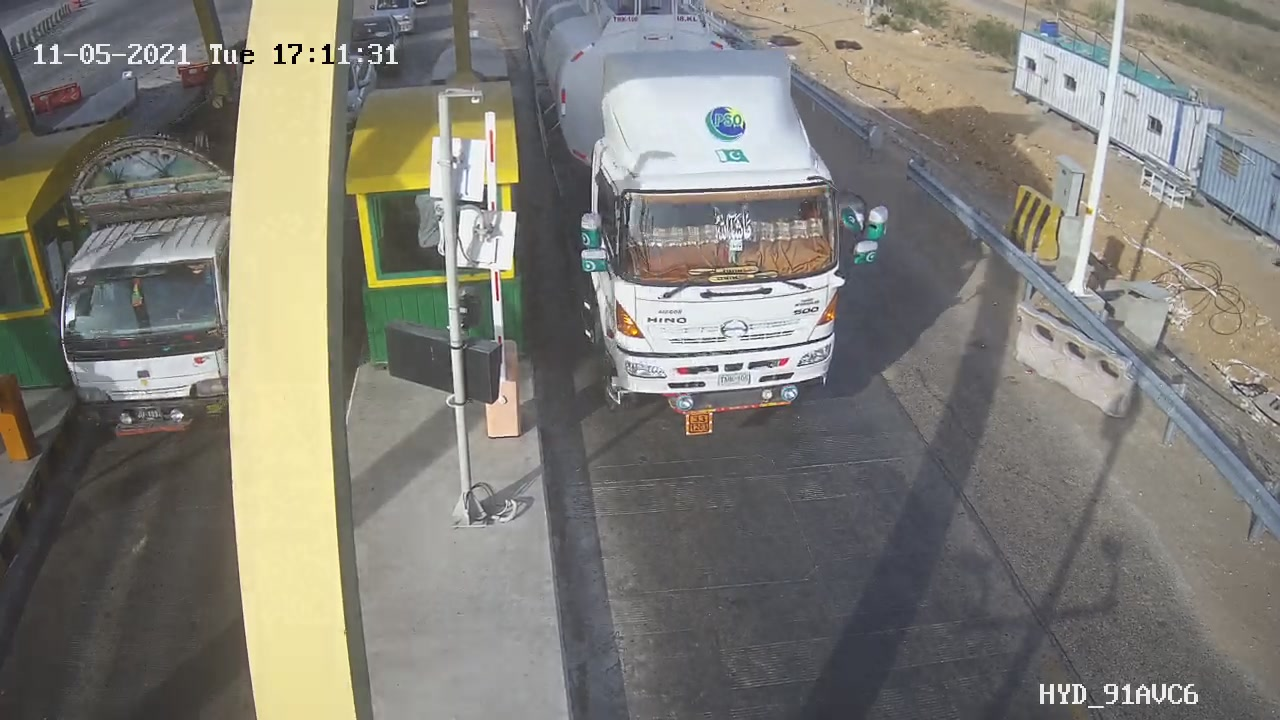F6: (512, 3, 908, 465)
